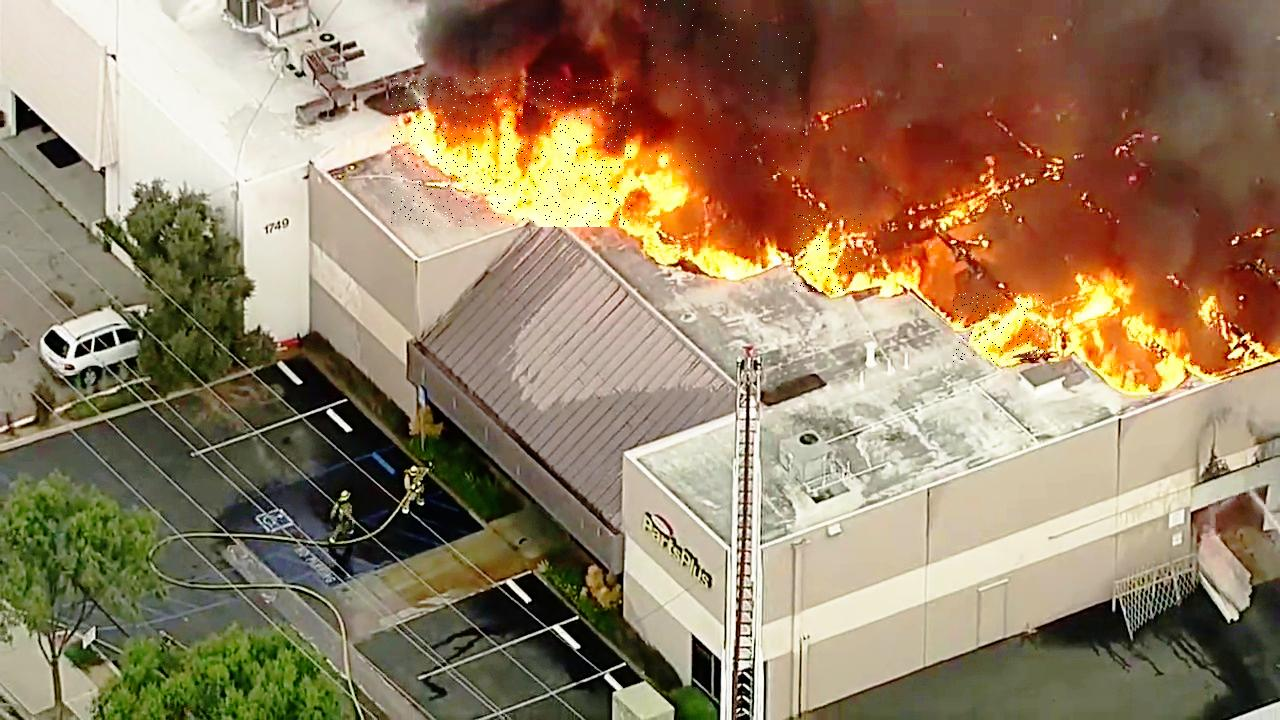fire: (392, 77, 633, 227), (954, 294, 1046, 363), (794, 214, 862, 292)
smoke: (639, 0, 810, 175)
